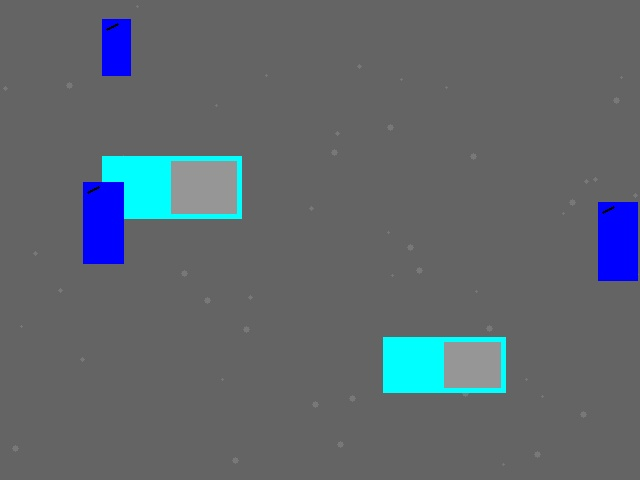motorcycle: (83, 182, 123, 263), (598, 202, 637, 280), (102, 19, 130, 75)
truck: (102, 156, 241, 218), (383, 337, 505, 392)
